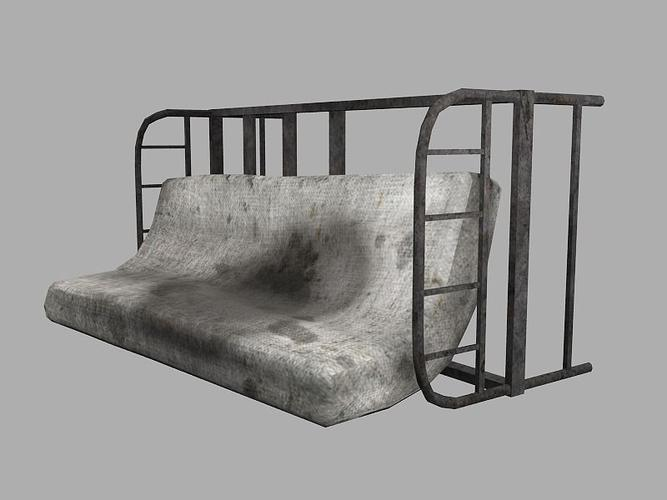Bed-Mattress: (37, 153, 508, 430)
